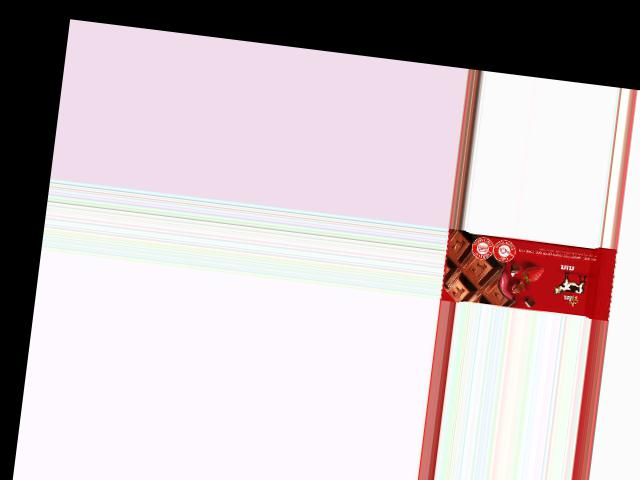chocolate: (442, 228, 618, 320)
